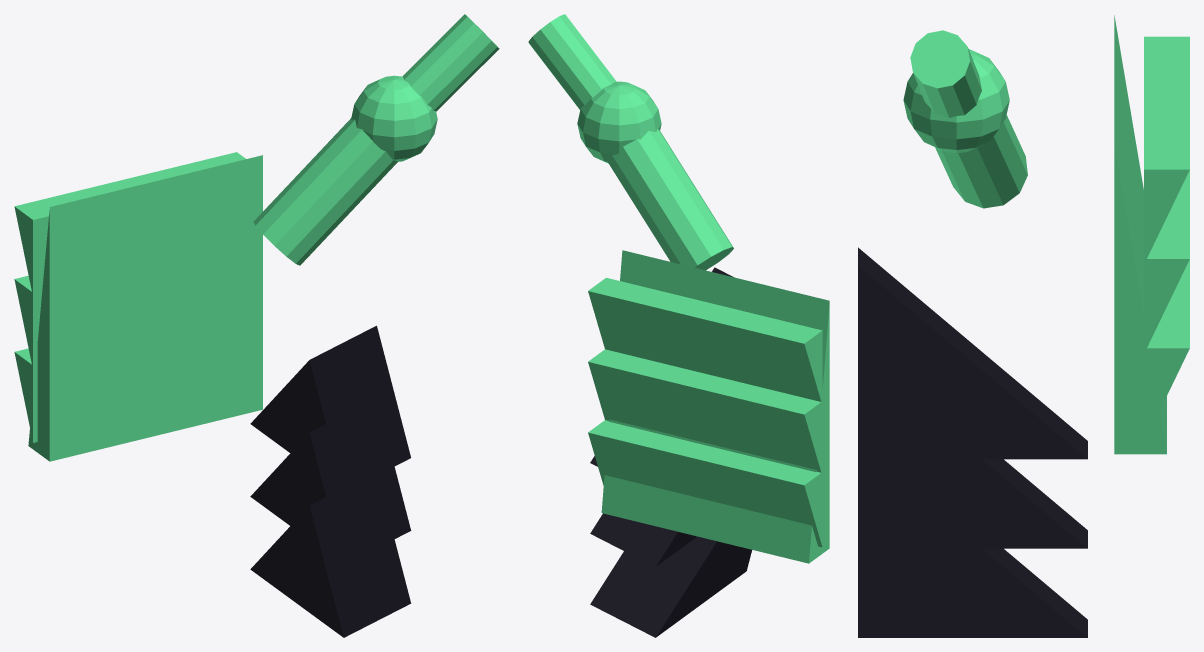
File: WindArmorRightUpperArm.obj
3 views of the same model, side by side, from view 1: azimuth 30°, elevation 25°; view 2: azimuth 150°, elevation 25°; view 3: azimuth 270°, elevation 25° (orthographic). The views are drawn at different scales.
Visible parts, largest first — view 1: WindArmorRightUpperArm; view 2: WindArmorRightUpperArm; view 3: WindArmorRightUpperArm.
Part boxes in pixels (x1,y1,x2,y2): WindArmorRightUpperArm: (14,14,499,637); WindArmorRightUpperArm: (528,14,829,637); WindArmorRightUpperArm: (858,15,1189,637).
Bounding box in the file's own units: 1.64 × 2.3 × 1.01.
